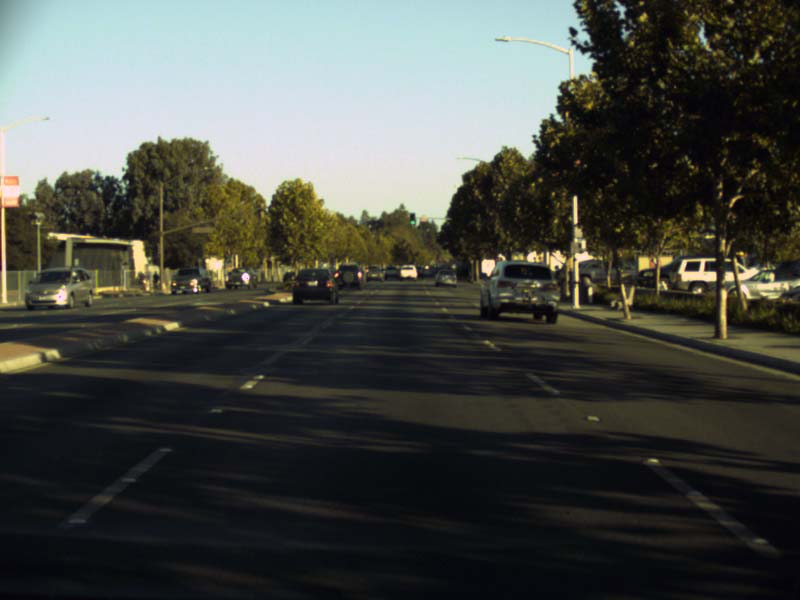Green: (409, 213, 415, 225)
